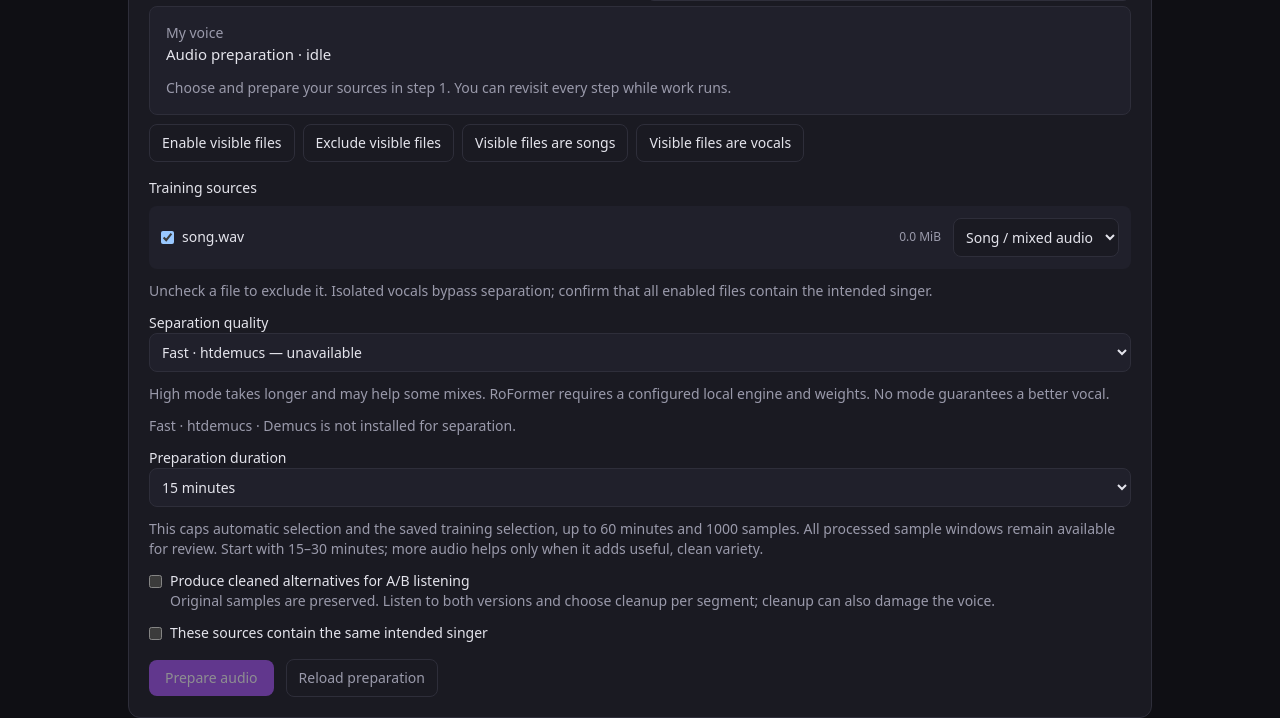
Test: allows isolated-vocal preparation without an installed separator
This screenshot has width=1280, height=718.
(page scrolled)
Click the checkbox labelled "These sources contain the same intended singer" at (156, 633), box 149,626 -> 162,640
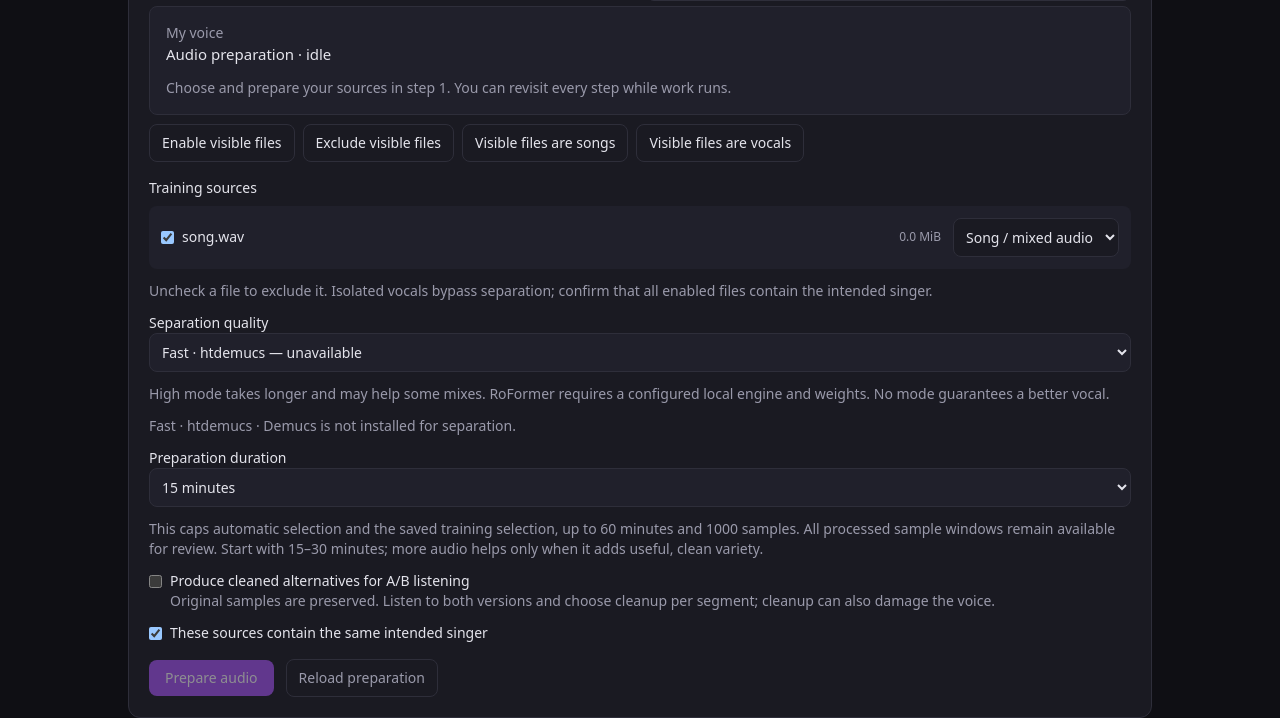
Select "Isolated vocal" in the dropdown named "Input type: song.wav" at (1036, 237), box 953,218 -> 1119,256
(page scrolled)
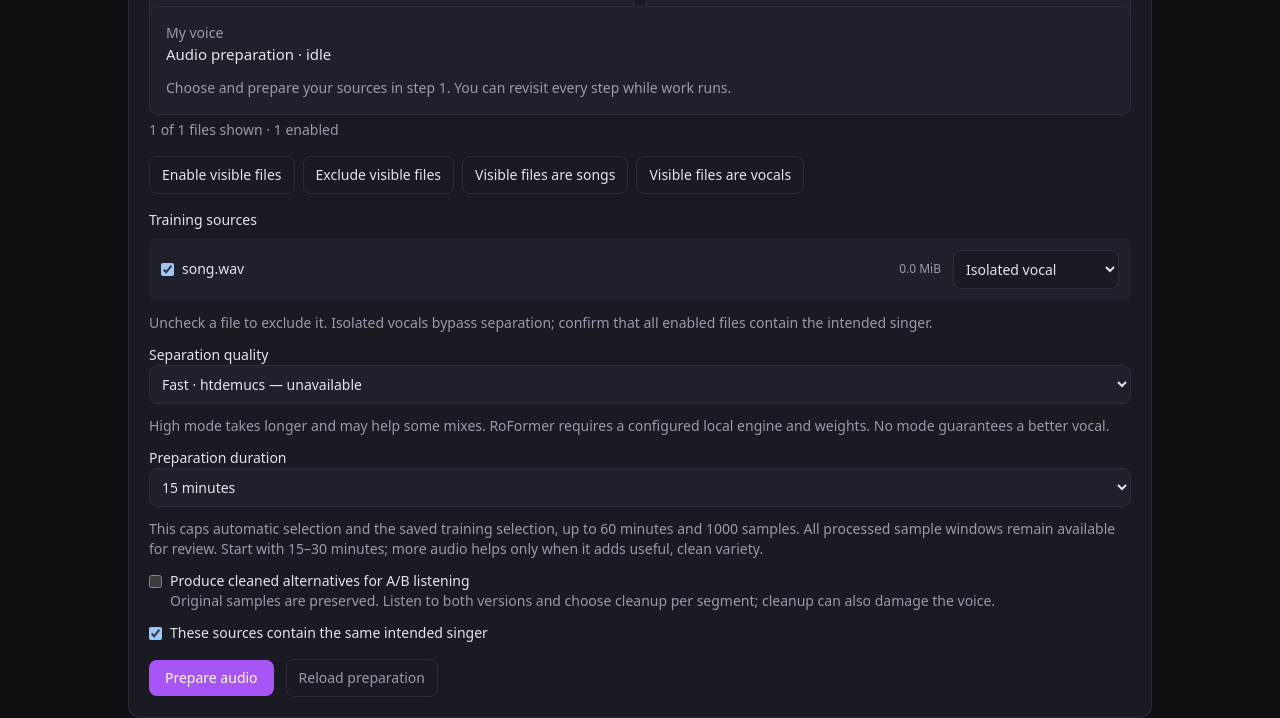
Check: the button "Prepare audio" is enabled, box 149,660 -> 274,696
